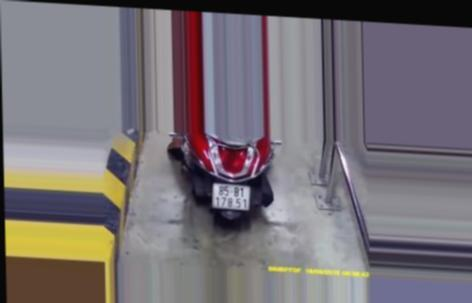License_Plate: (209, 181, 252, 213)
